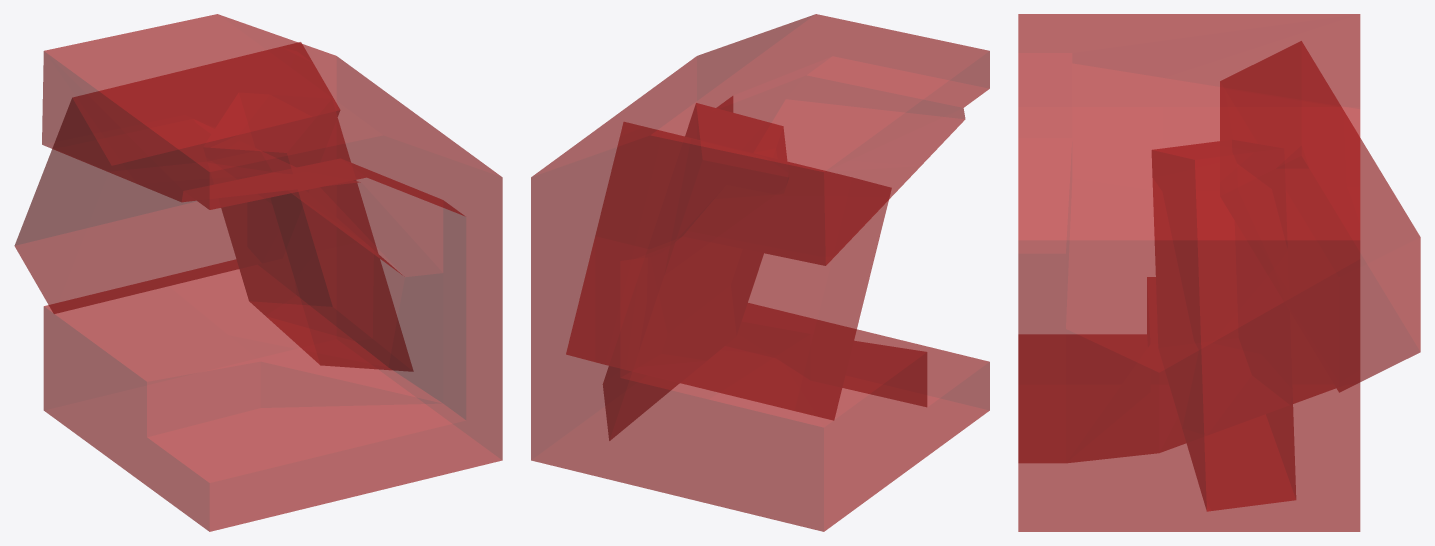
File: SM_Env_Motorway_Tunnel_Destroyed_Right_01_Collision.fbx
3 views of the same model, side by side, from view 1: azimuth 30°, elevation 25°; view 2: azimuth 150°, elevation 25°; view 3: azimuth 270°, elevation 25° (orthographic). The views are drawn at different scales.
Visible parts, largest first — view 1: SM_Env_Motorway_Tunnel_Destroyed_Right_01_Collision; view 2: SM_Env_Motorway_Tunnel_Destroyed_Right_01_Collision; view 3: SM_Env_Motorway_Tunnel_Destroyed_Right_01_Collision.
Part boxes in pixels (left/top/right/bottom): SM_Env_Motorway_Tunnel_Destroyed_Right_01_Collision: left=14, top=14, right=502, bottom=531; SM_Env_Motorway_Tunnel_Destroyed_Right_01_Collision: left=531, top=14, right=989, bottom=531; SM_Env_Motorway_Tunnel_Destroyed_Right_01_Collision: left=1018, top=14, right=1420, bottom=531.
Bounding box in the file's own units: 650 × 751 × 739.
